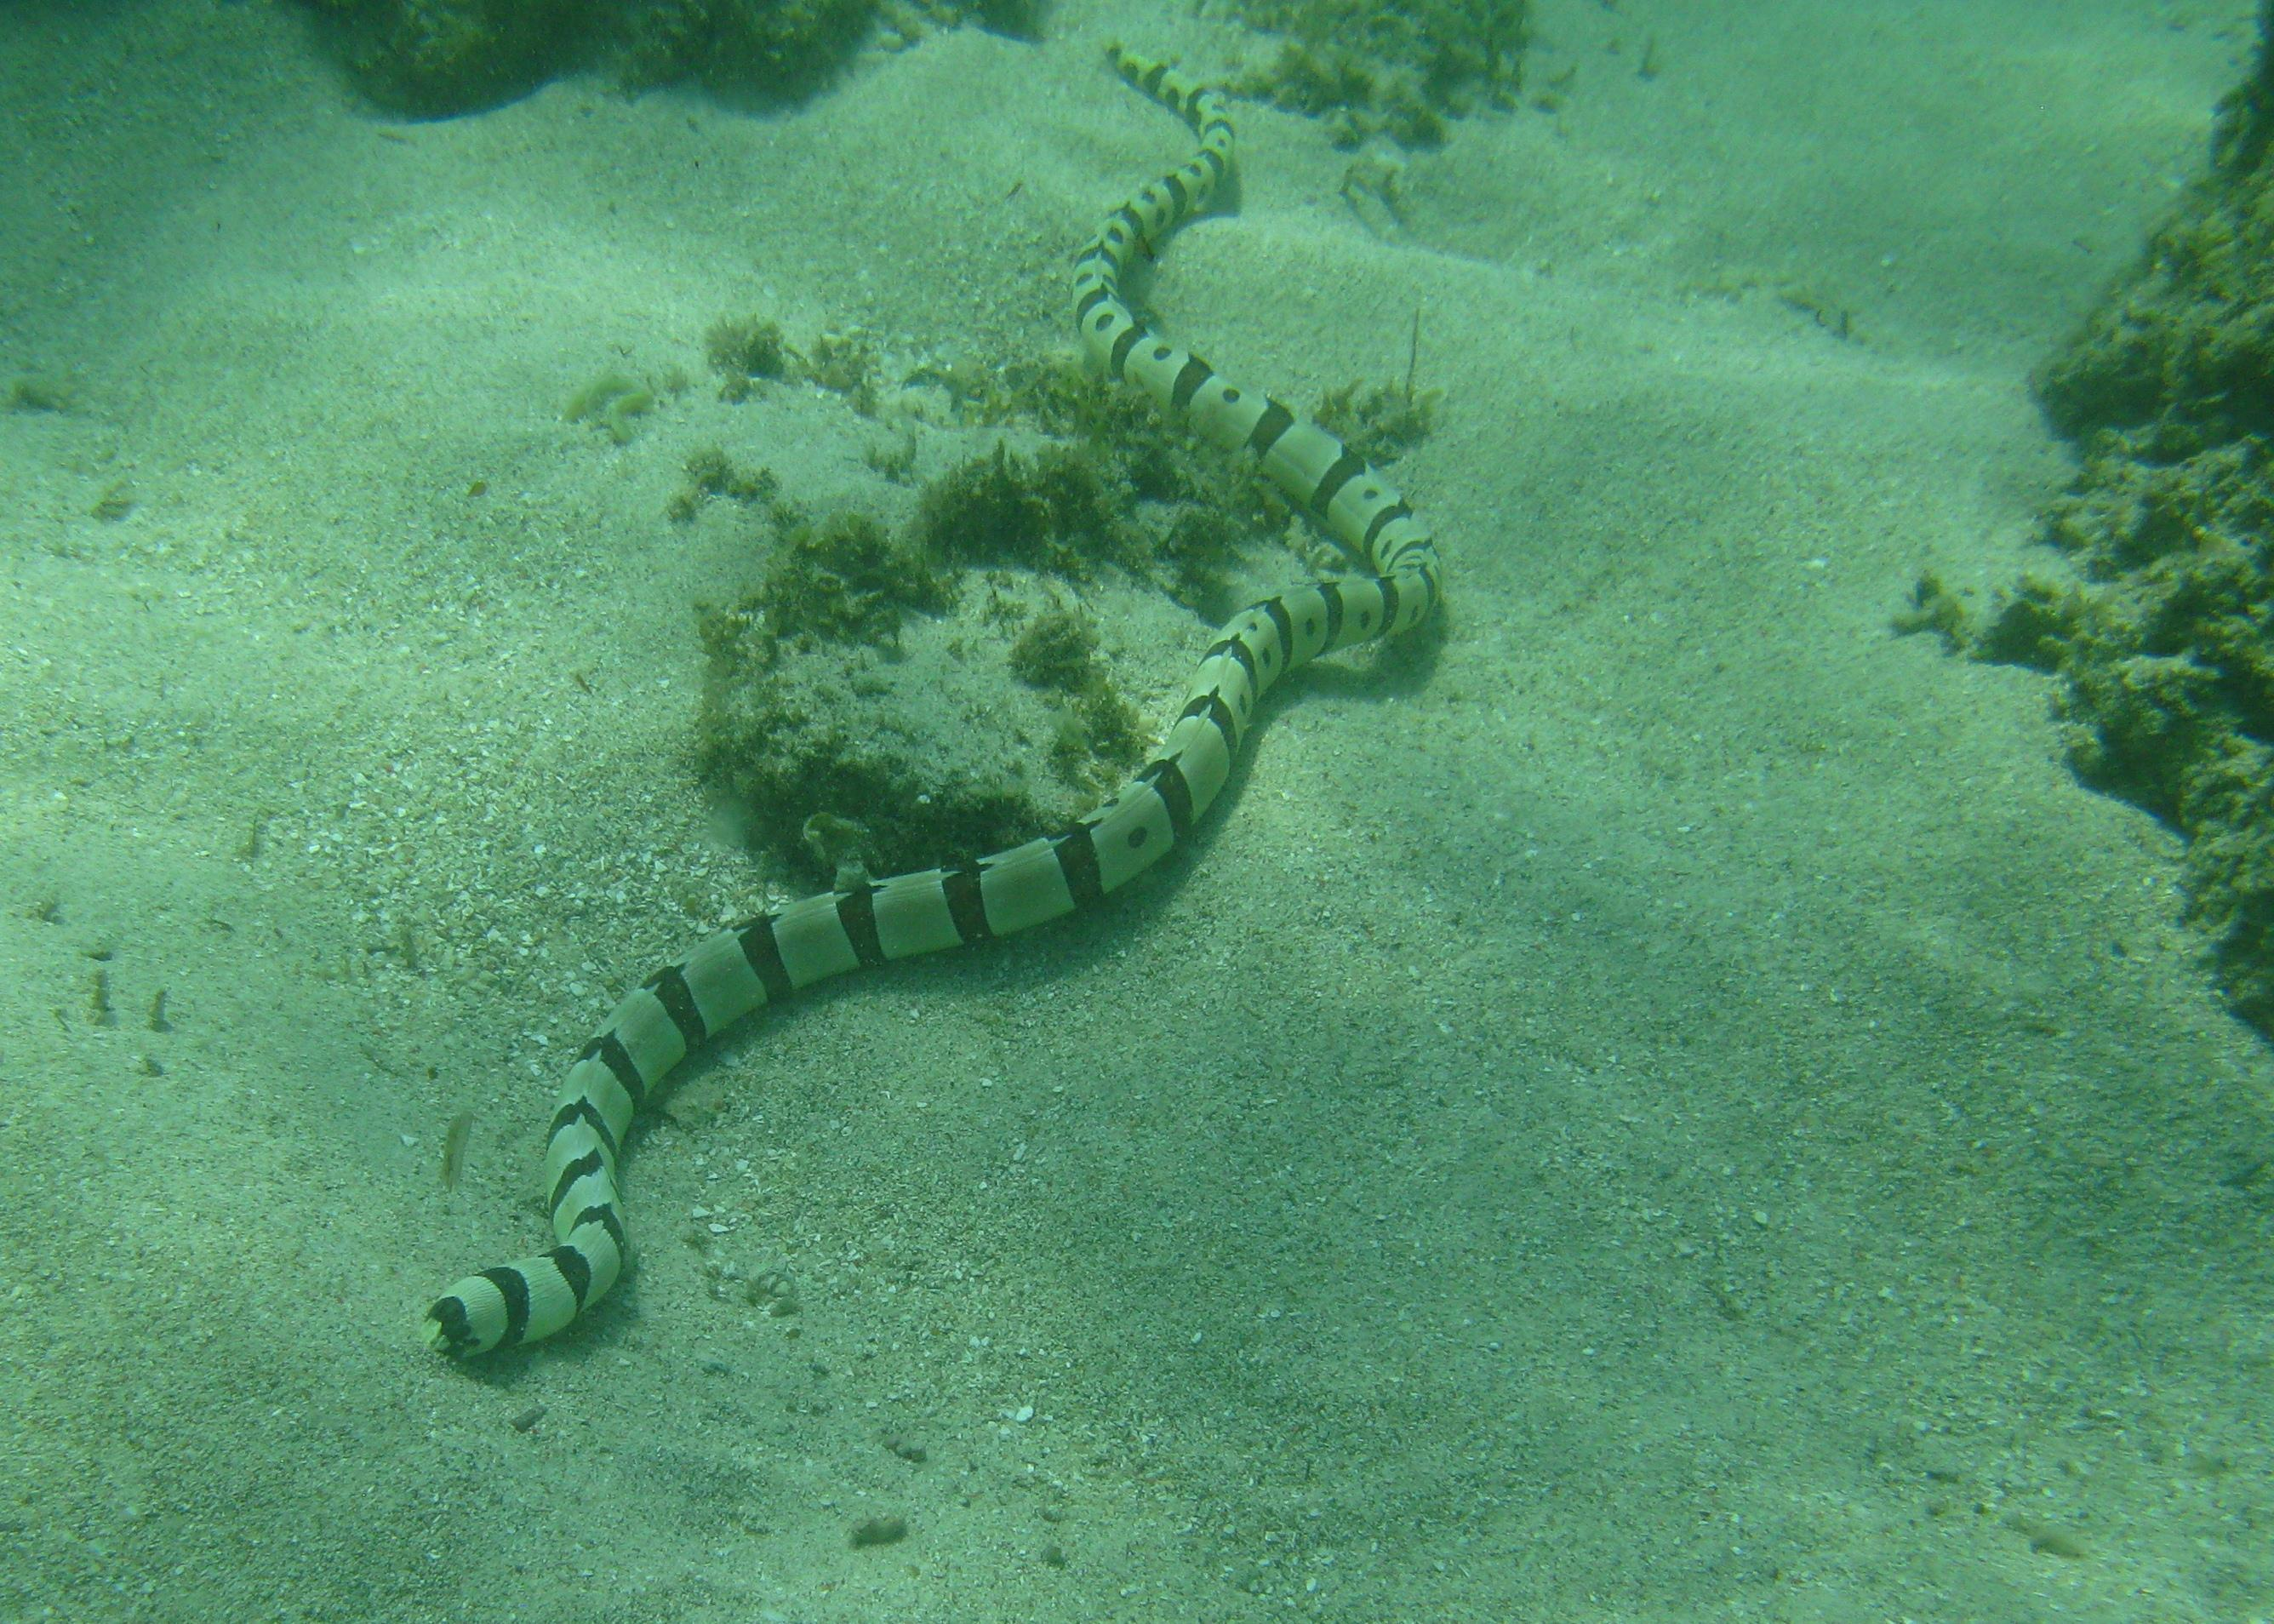Fish: (427, 32, 1467, 1380)
